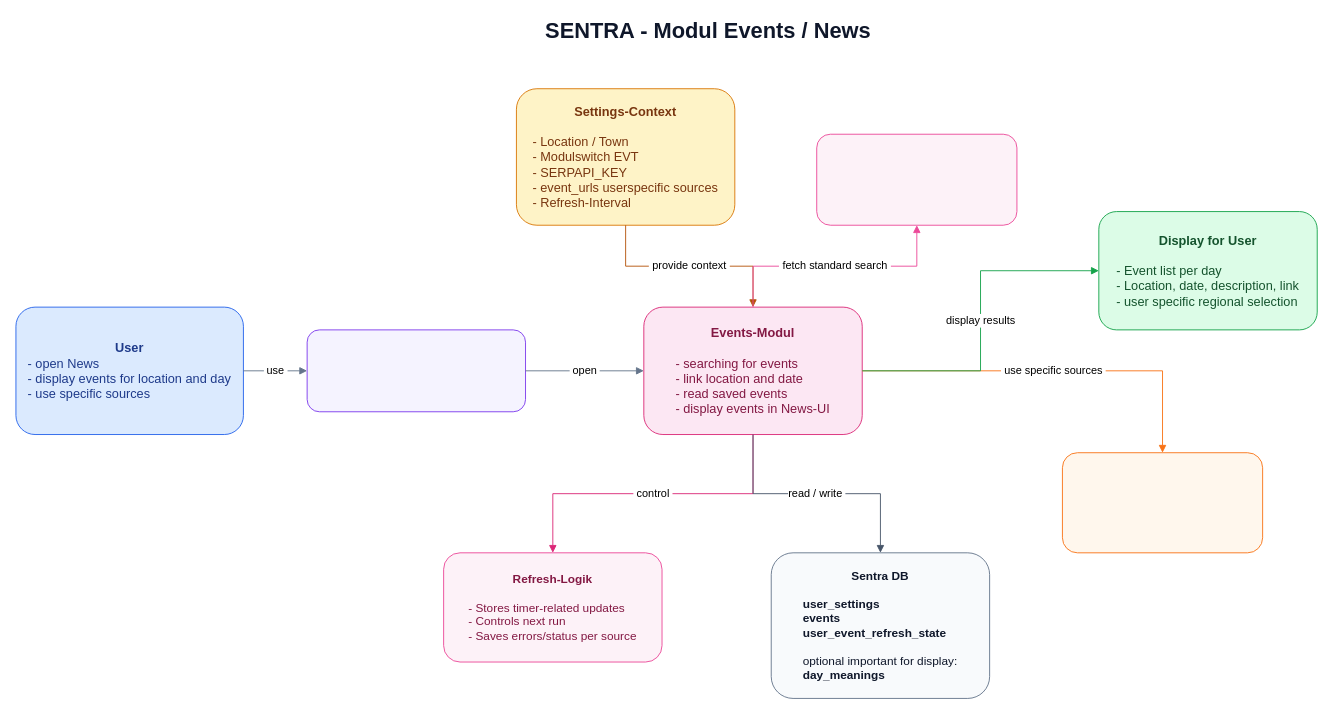
The diagram is 1333 pixels wide and 714 high, and some of its shapes have lost their labels. The centre of each missing label's shape, as x and y in pixels:
"Sentra Dashboard - Navigation to modul News / Events" goes at (416,370).
"SERPAPI - Google Events Search - Location based event data" goes at (916,179).
"Specific Event-Sources - URLs from Settings - Add-On for standard search" goes at (1162,502).
